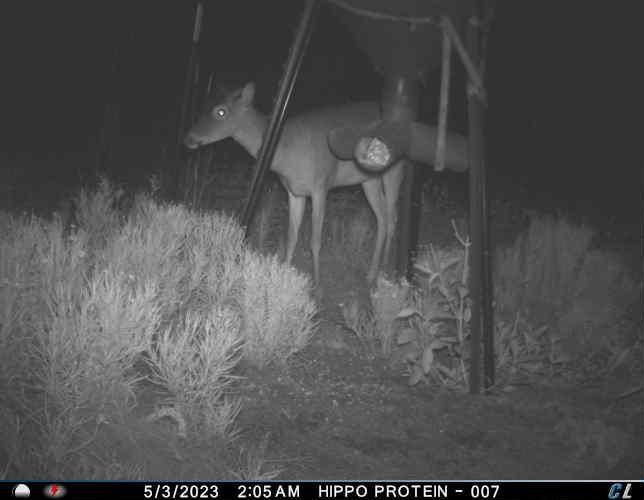Deer: (181, 72, 405, 277)
